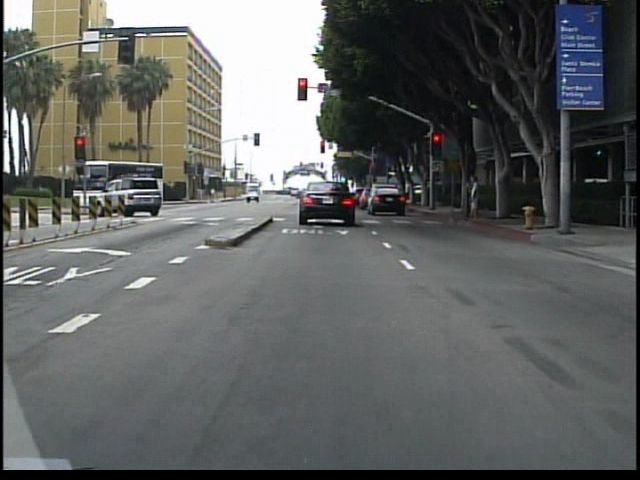person: (465, 169, 485, 220)
